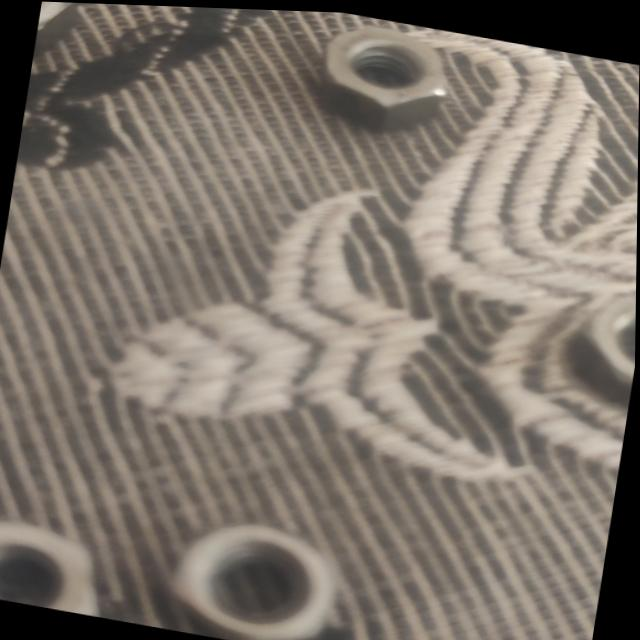disinfected nut: (175, 522, 340, 640), (322, 24, 448, 127), (0, 522, 101, 616), (573, 289, 637, 393), (35, 1, 77, 49)
